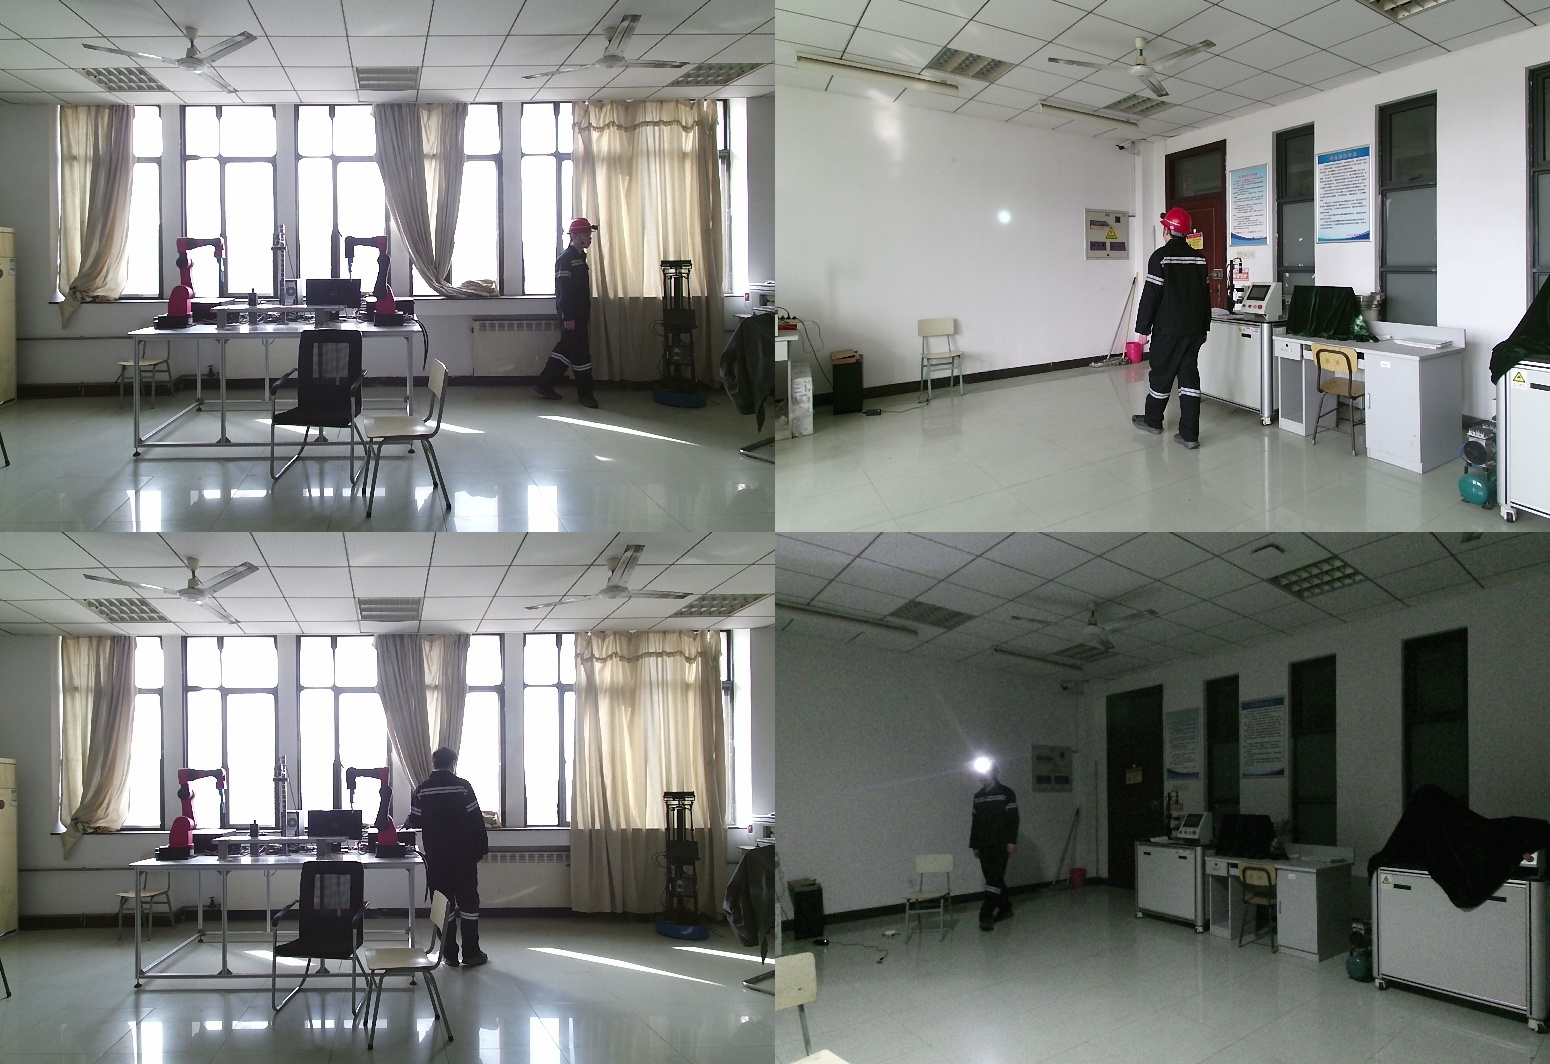person: (1132, 208, 1224, 445), (403, 746, 495, 969), (538, 217, 604, 411), (967, 760, 1026, 928)
